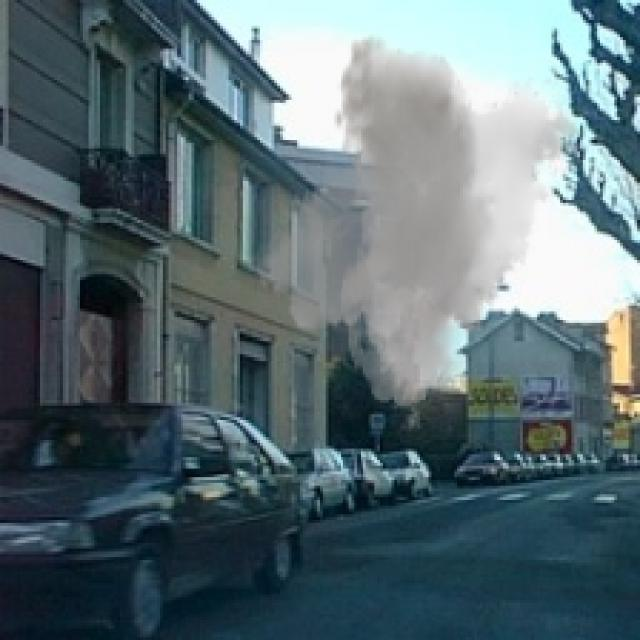smoke: (246, 34, 588, 409)
